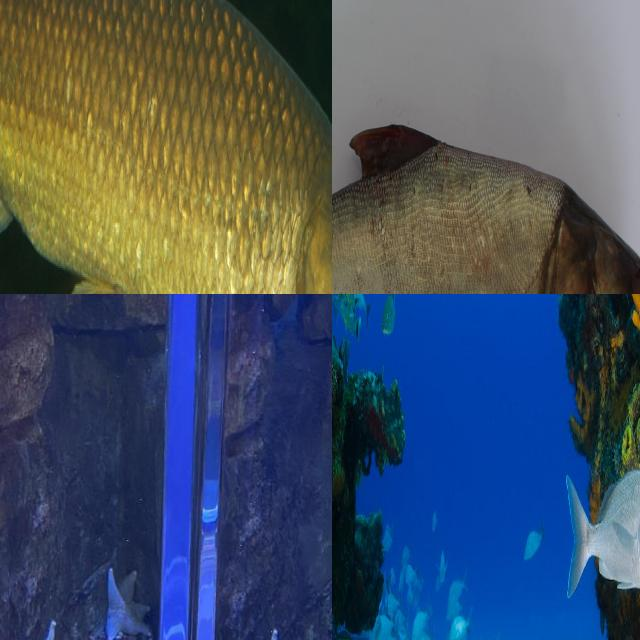fish: (332, 294, 640, 640), (0, 0, 332, 294), (332, 91, 640, 294)
